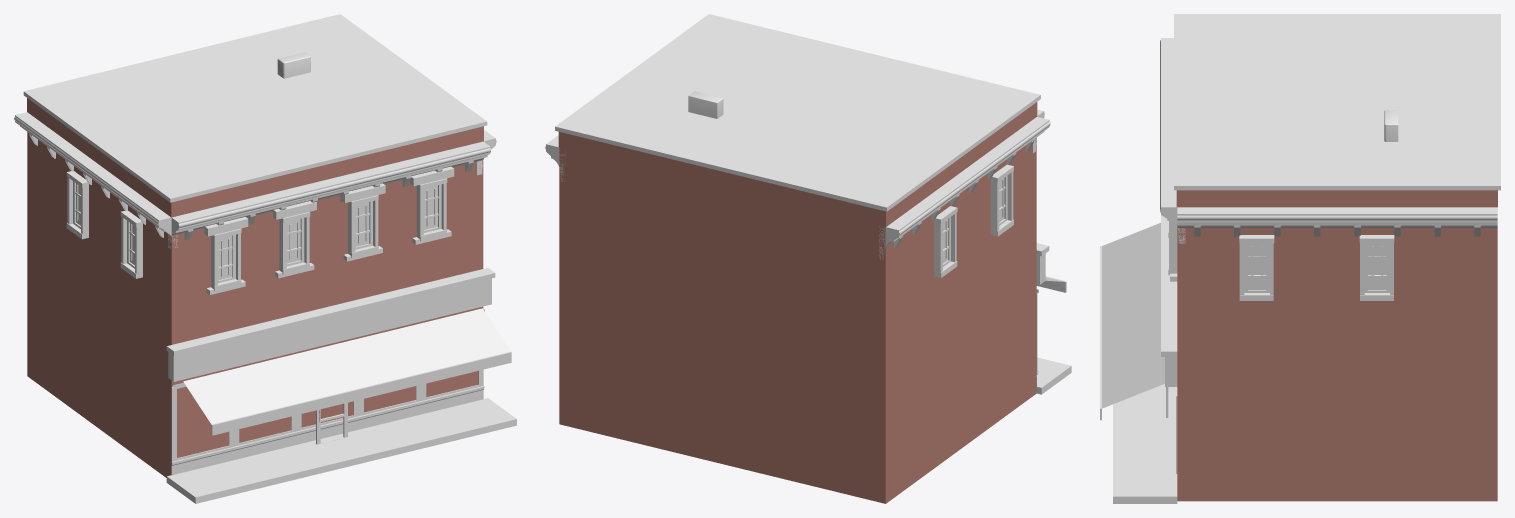
File: lm_catalyst.full.glb
3 views of the same model, side by side, from view 1: azimuth 30°, elevation 25°; view 2: azimuth 150°, elevation 25°; view 3: azimuth 270°, elevation 25° (orthographic). The views are drawn at different scales.
Parts seen in each view (by area): view 1: lm_catalyst; view 2: lm_catalyst; view 3: lm_catalyst.
Part boxes in pixels (x1,y1,x2,y2): lm_catalyst: [14, 14, 516, 503]; lm_catalyst: [545, 14, 1071, 503]; lm_catalyst: [1100, 14, 1500, 503].
Size of the model in its own units: 19 by 16.12 by 17.51.
